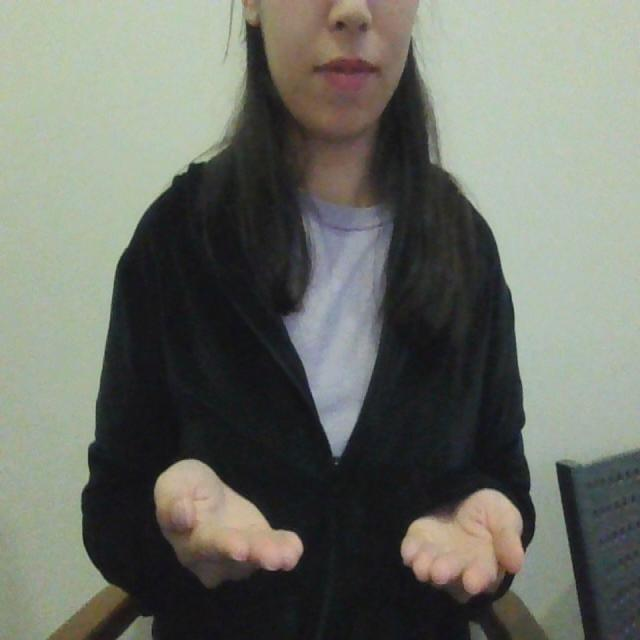Evet: (149, 453, 531, 600)
